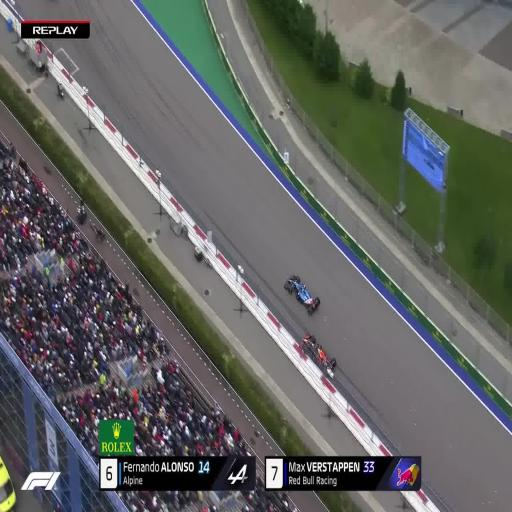f1_car: (302, 334, 336, 377), (284, 275, 320, 314)
